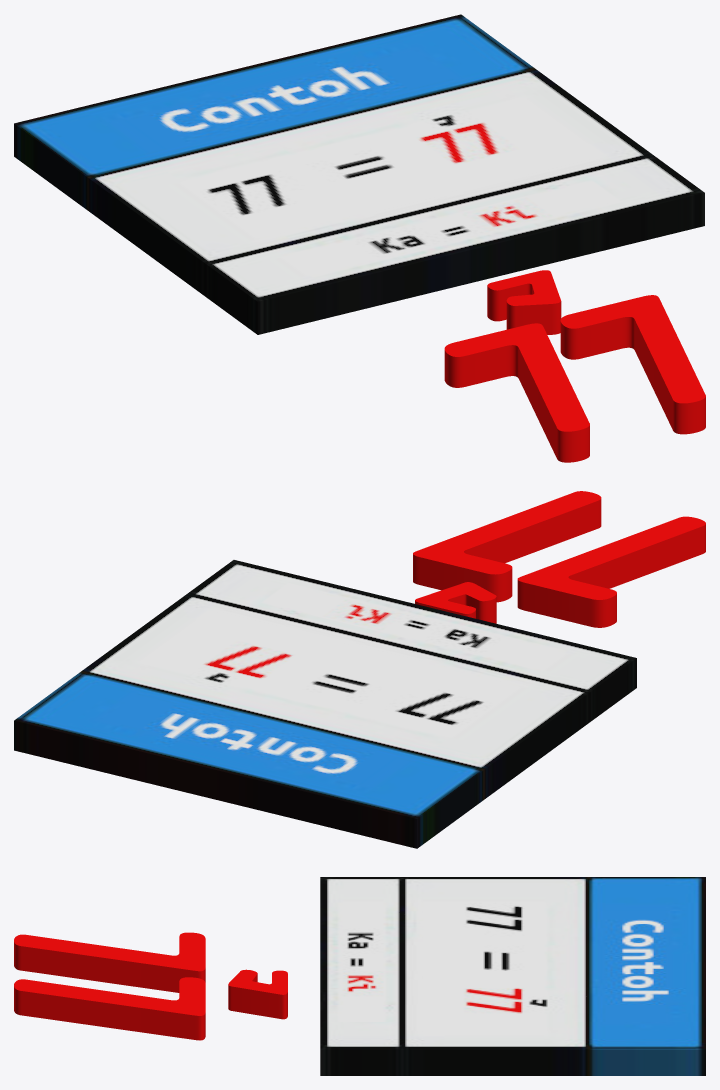
3 views of the same model, one above another, from view 1: azimuth 30°, elevation 25°; view 2: azimuth 150°, elevation 25°; view 3: azimuth 270°, elevation 25° (orthographic). The views are drawn at different scales.
Parts seen in each view (by area): view 1: contoh-i-Rarangken, Text; view 2: contoh-i-Rarangken, Text; view 3: contoh-i-Rarangken, Text.
Part boxes in pixels (x1,y1,x2,y2): contoh-i-Rarangken: (14,14,704,334); Text: (444,270,705,462); contoh-i-Rarangken: (14,560,636,848); Text: (413,491,705,627); contoh-i-Rarangken: (320,877,705,1075); Text: (14,932,287,1040).
Bounding box in the file's own units: 106 × 11 × 179.
2 materials, 1 textured.
